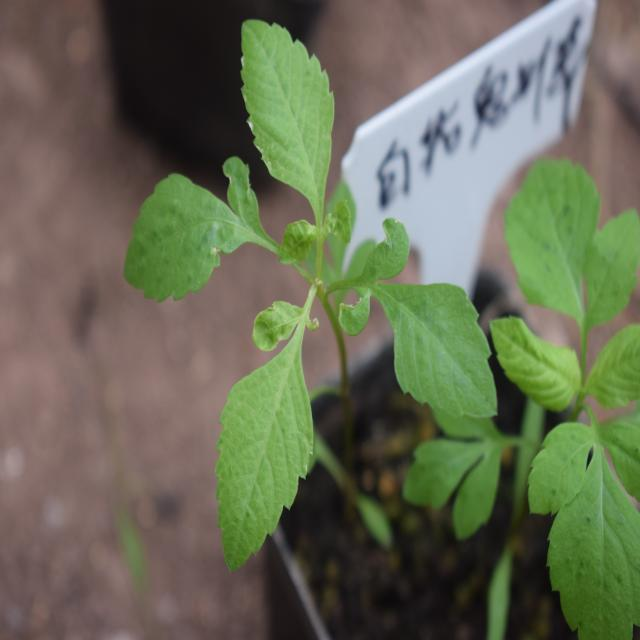Bidens pilosa: (121, 33, 488, 547), (482, 148, 638, 616)
